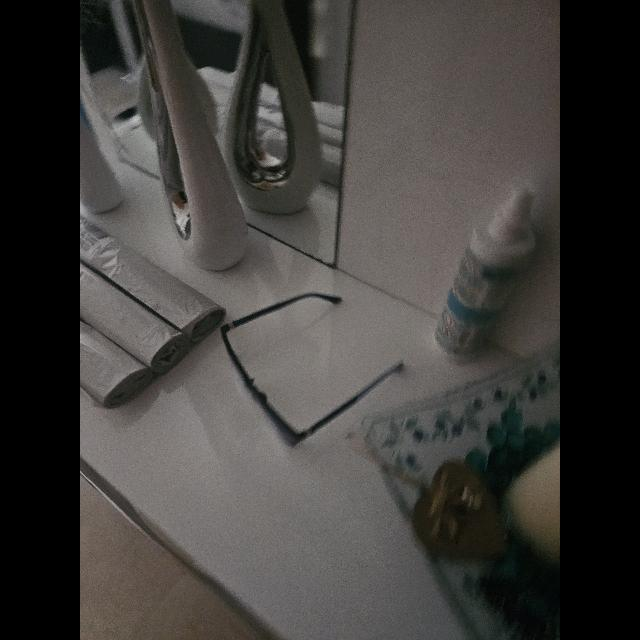glasses: (220, 293, 404, 447)
